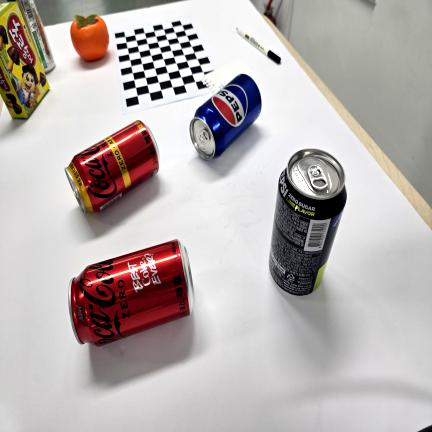can_coke_decaf: (65, 120, 159, 214)
can_coke_zero: (69, 239, 194, 346)
can_pepsi: (189, 74, 261, 160)
can_pepsi_zero: (269, 149, 346, 295)
